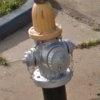Hydrant: (15, 4, 76, 98)
